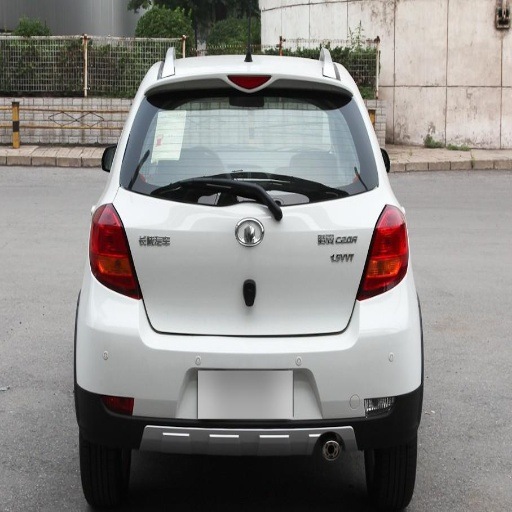back_bumper: (77, 276, 420, 453)
tailgate: (306, 188, 383, 332), (115, 202, 192, 332)
trunk: (120, 191, 355, 333)
